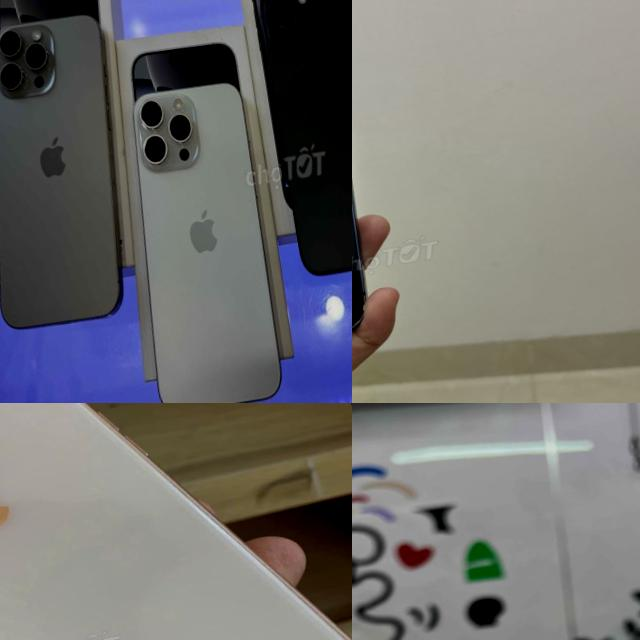gen_16: (113, 74, 290, 403)
gen_7_8: (0, 403, 352, 640)
gen_x_xs: (493, 504, 640, 640)
